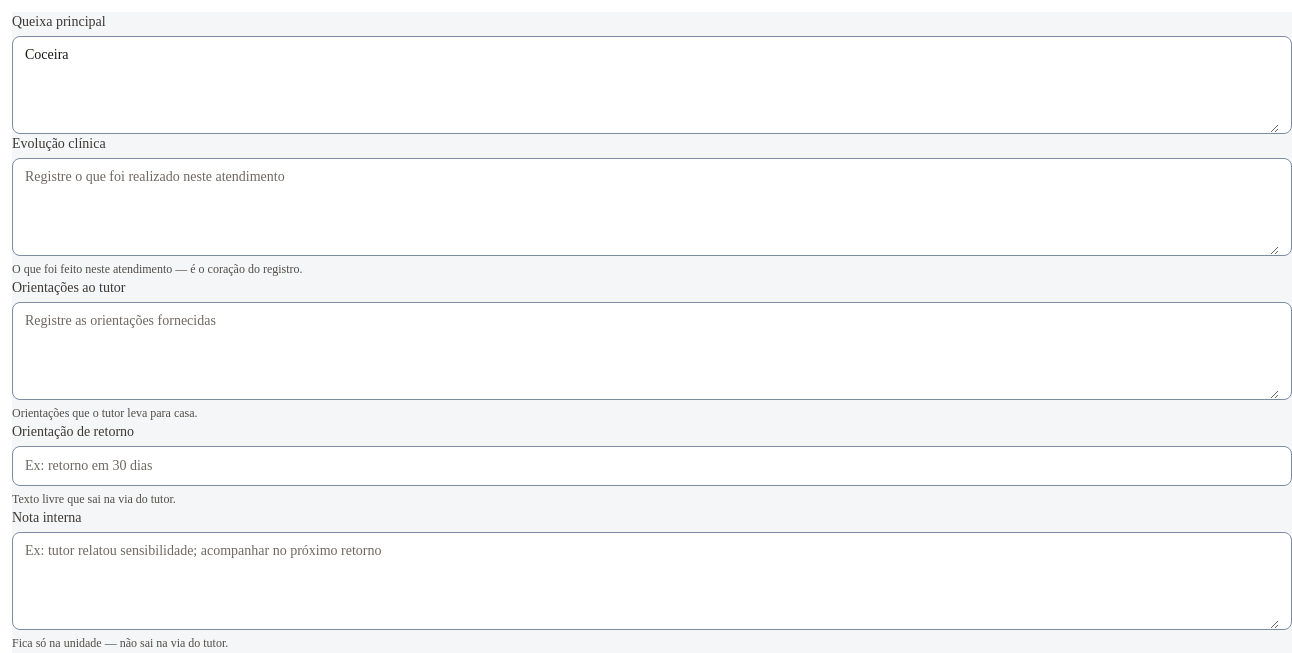
it: F1A · sair exige persistência confirmada › 409 · “Recarregar versão atual” adota o servidor (escolha explícita, nunca silenciosa)
This screenshot has width=1292, height=653.
Type "Conduta realizada e tutora orientada." into the text box labelled "Evolução clínica" at (652, 207), box [25,159,1279,255]
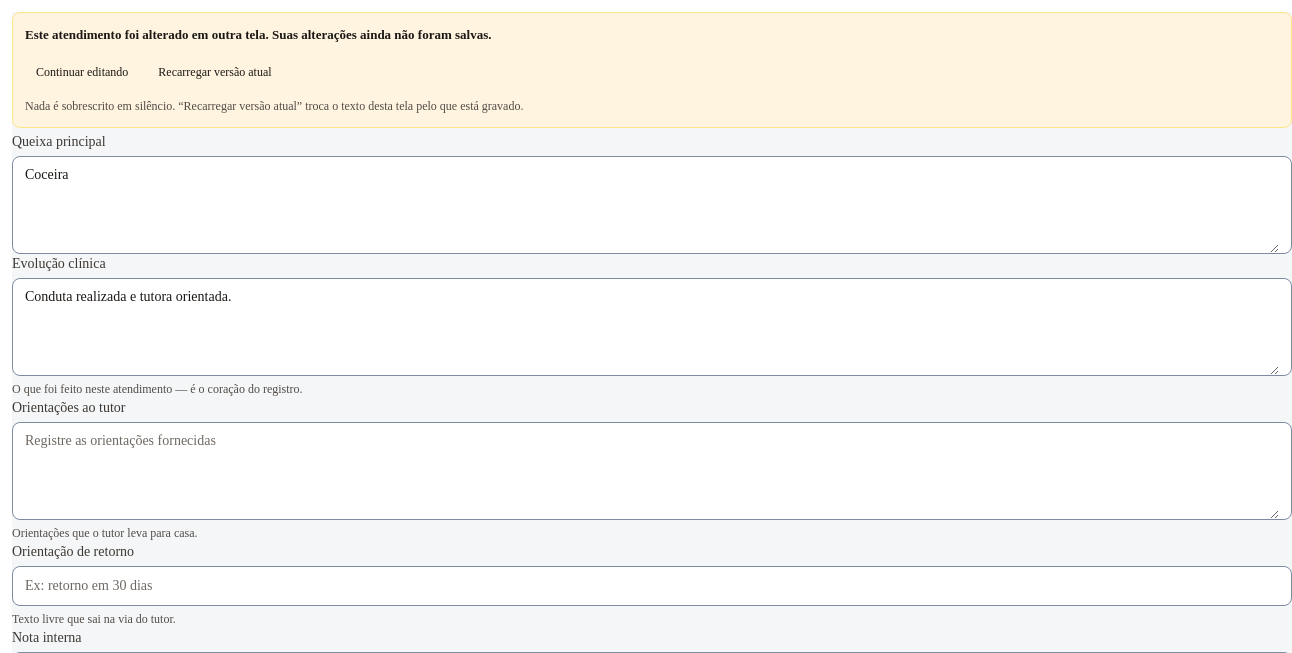
Click the button "Recarregar versão atual" at (215, 72), box [147,54,283,88]
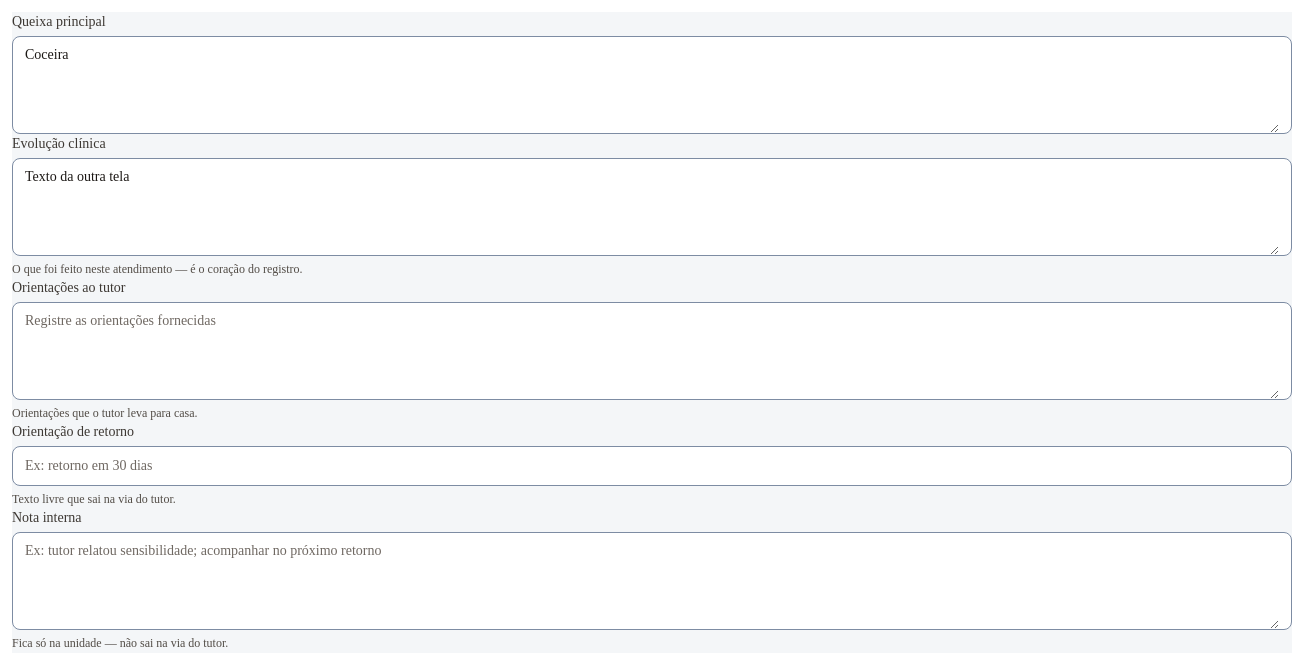
Check: the text box labelled "Evolução clínica" holds "Texto da outra tela", box [25,159,1279,255]
